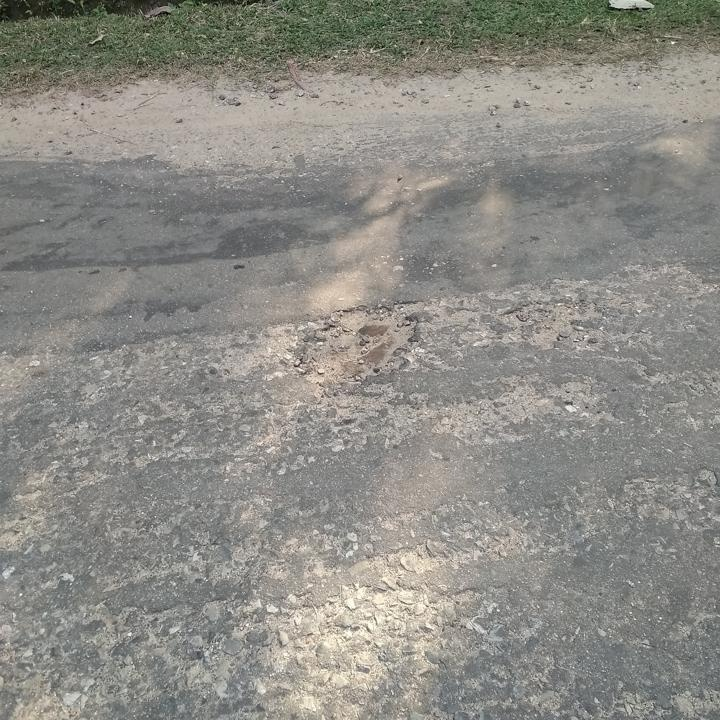pothole: (294, 295, 423, 386)
